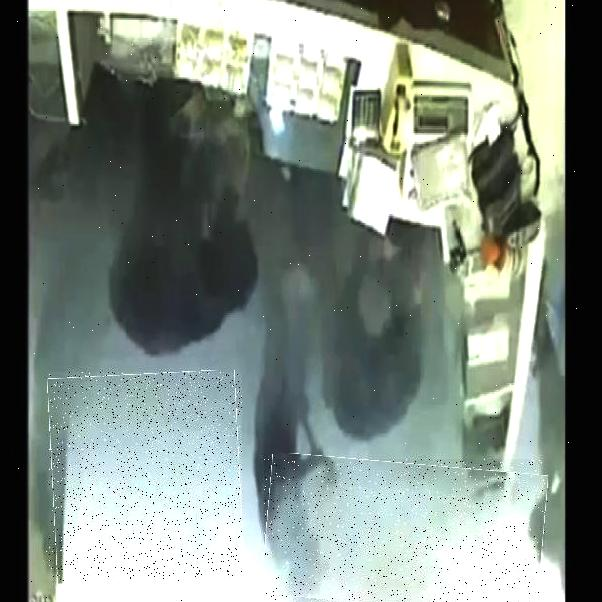smoke: (49, 372, 242, 581), (264, 459, 545, 602)
